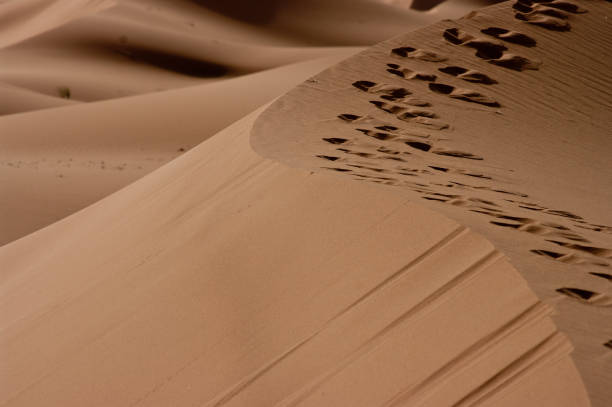animal_footprint: (443, 28, 540, 70), (490, 215, 587, 241), (370, 100, 448, 129), (352, 80, 429, 106), (443, 28, 506, 58), (428, 82, 500, 106), (513, 0, 570, 30), (510, 201, 582, 220), (422, 192, 496, 210), (530, 249, 608, 266), (447, 181, 527, 197), (370, 100, 436, 119), (355, 125, 431, 141), (352, 80, 411, 100), (548, 240, 611, 257), (438, 66, 497, 84), (481, 27, 536, 46), (556, 287, 611, 306), (515, 12, 570, 31), (337, 147, 408, 161), (513, 0, 568, 18), (488, 53, 541, 71), (513, 0, 586, 13), (428, 165, 492, 179), (387, 63, 436, 80), (522, 0, 586, 13), (391, 46, 446, 61), (337, 113, 393, 126), (398, 116, 449, 129), (422, 192, 468, 205), (432, 149, 483, 159), (352, 173, 397, 184), (356, 128, 397, 140), (369, 100, 406, 113), (443, 28, 473, 44), (398, 108, 436, 119), (575, 222, 611, 233), (508, 200, 546, 210), (543, 209, 581, 219), (336, 148, 374, 157), (490, 188, 527, 197), (347, 164, 388, 172), (396, 167, 429, 176), (405, 140, 431, 151), (468, 197, 498, 206), (401, 97, 430, 106), (470, 207, 502, 215), (376, 146, 404, 155), (589, 272, 611, 281), (337, 113, 361, 121), (322, 137, 348, 144), (377, 155, 405, 161), (320, 167, 351, 171), (316, 155, 339, 160), (375, 125, 398, 130), (603, 340, 611, 348)
